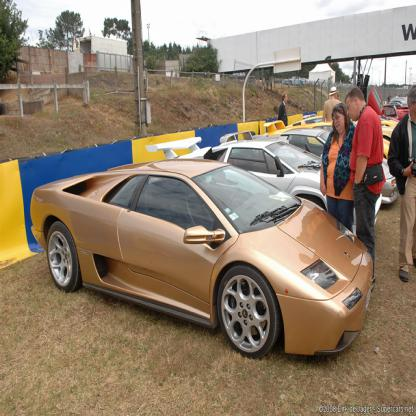Vehicle: (30, 159, 375, 363)
